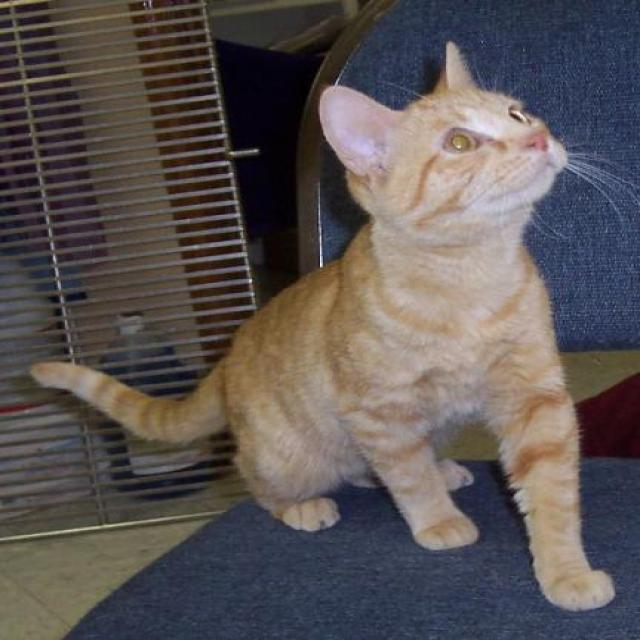Cats: (28, 38, 633, 612)
